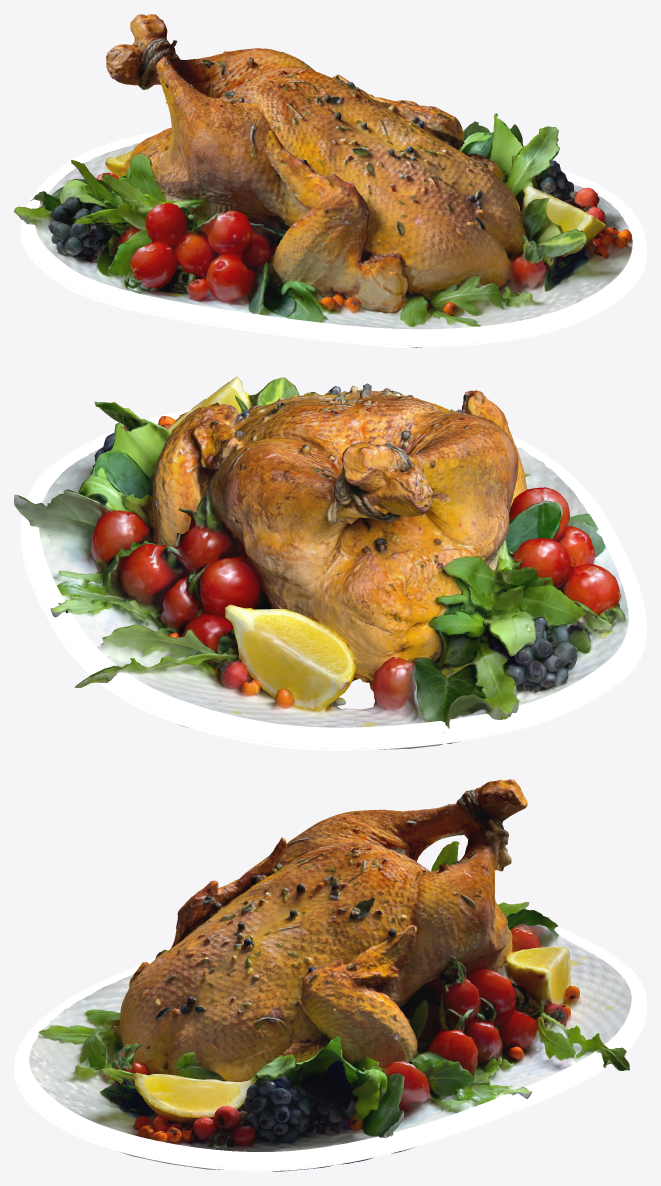
Rendered from chicken_duck.glb.
3 views of the same model, one above another, from view 1: azimuth 30°, elevation 25°; view 2: azimuth 150°, elevation 25°; view 3: azimuth 270°, elevation 25° (orthographic). The views are drawn at different scales.
Parts seen in each view (by area): view 1: Object_4, Object_5; view 2: Object_4, Object_5; view 3: Object_4, Object_5.
Boxes of the visible parts, left/top/right/bottom form: Object_4: left=14, top=14, right=632, bottom=347; Object_5: left=20, top=130, right=646, bottom=347; Object_4: left=14, top=376, right=628, bottom=749; Object_5: left=20, top=408, right=646, bottom=750; Object_4: left=29, top=779, right=631, bottom=1171; Object_5: left=14, top=926, right=646, bottom=1171.
Bounding box in the file's own units: 0.3584 × 0.1323 × 0.3668.
Materials: 2 (1 with a texture image).
